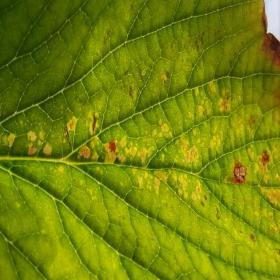Angular Leafspot: (0, 0, 279, 265)
